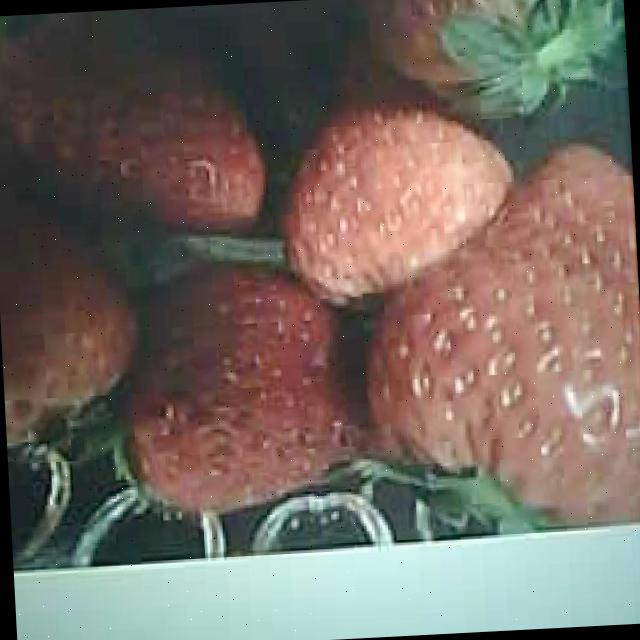strawberry: (358, 144, 640, 534)
